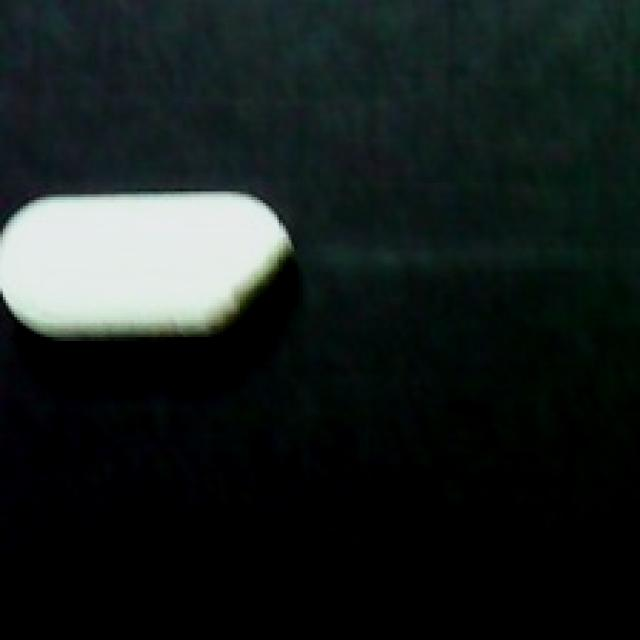defected: (0, 180, 300, 346)
